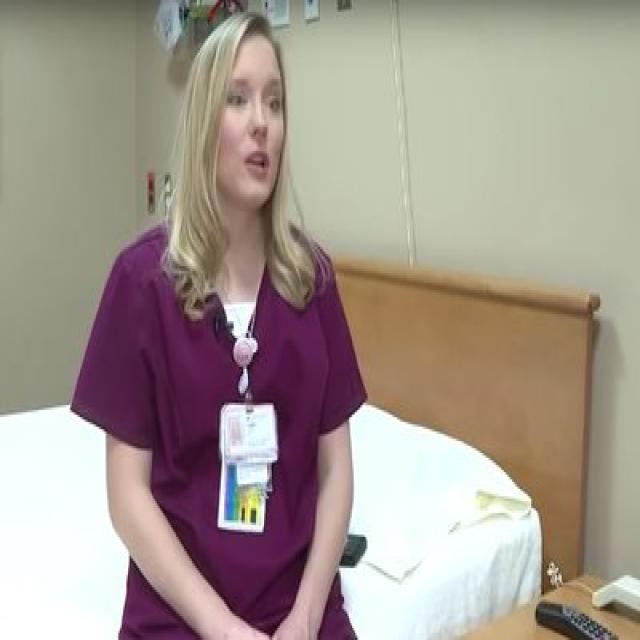human: (68, 8, 376, 640)
